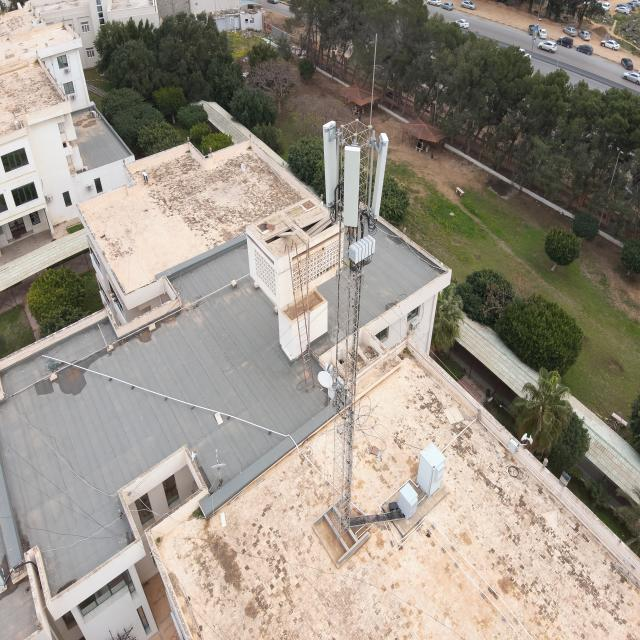antenna: (319, 118, 342, 207), (371, 131, 393, 218), (341, 145, 361, 232)
lighnig-rad: (370, 31, 379, 128)
microware-dish: (315, 362, 338, 388)
power-box: (325, 377, 348, 402)
radio-unit: (348, 234, 377, 264)
